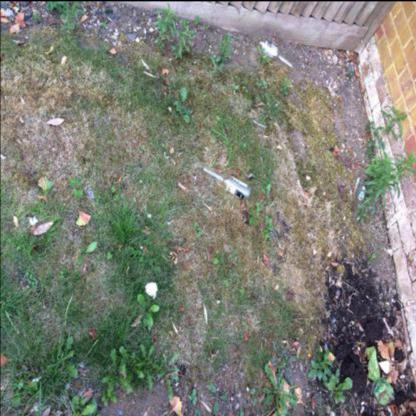Bottle cap: (203, 164, 251, 200), (259, 36, 293, 68), (353, 173, 367, 218)
Cigarette: (328, 275, 330, 281), (358, 137, 362, 140)
Plastic bag - wrapper: (87, 186, 94, 198)
Unlabeled litter: (145, 281, 157, 298), (252, 118, 266, 126), (30, 376, 41, 382), (24, 380, 31, 384)
